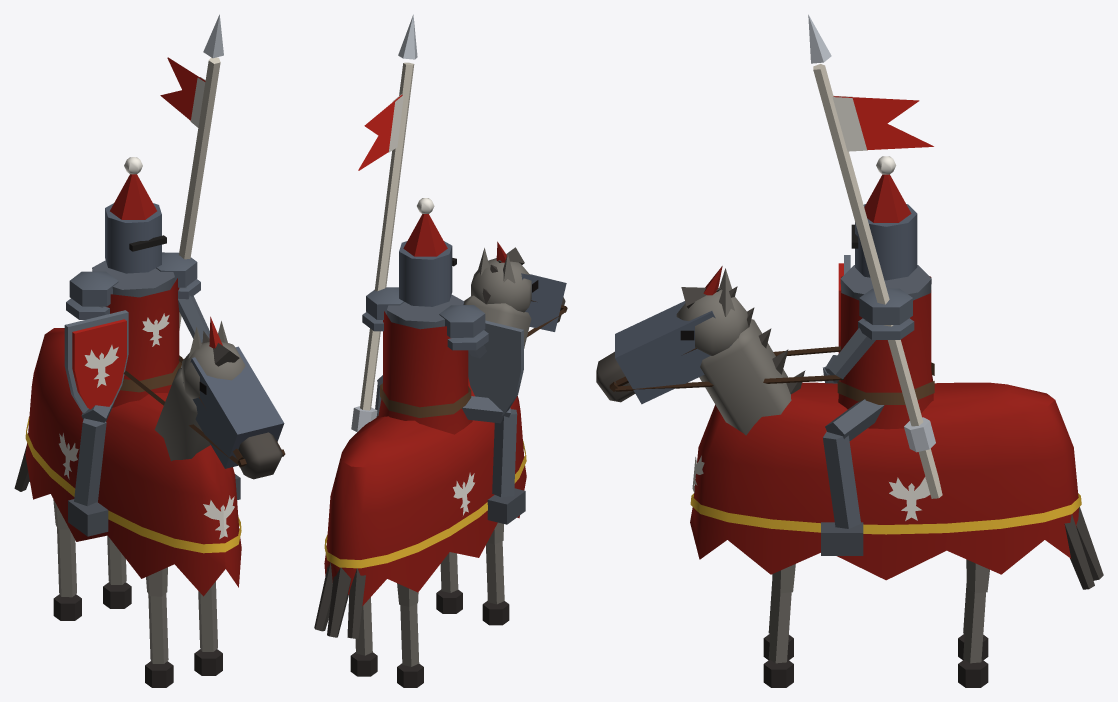
Rendered from assault_dl3_red.glb.
3 renders of one model, left to right at view 1: azimuth 30°, elevation 25°; view 2: azimuth 150°, elevation 25°; view 3: azimuth 270°, elevation 25°, orthographic. The views are drawn at different scales.
Parts seen in each view (by area): view 1: assault_dl3_red; view 2: assault_dl3_red; view 3: assault_dl3_red.
Boxes of the visible parts, x1,y1,x2,y2 form: assault_dl3_red: [14, 14, 285, 687]; assault_dl3_red: [314, 14, 567, 687]; assault_dl3_red: [596, 14, 1103, 687].
Size of the model in its own units: 0.2362 by 0.8891 by 0.6004.
1 material, 1 textured.
